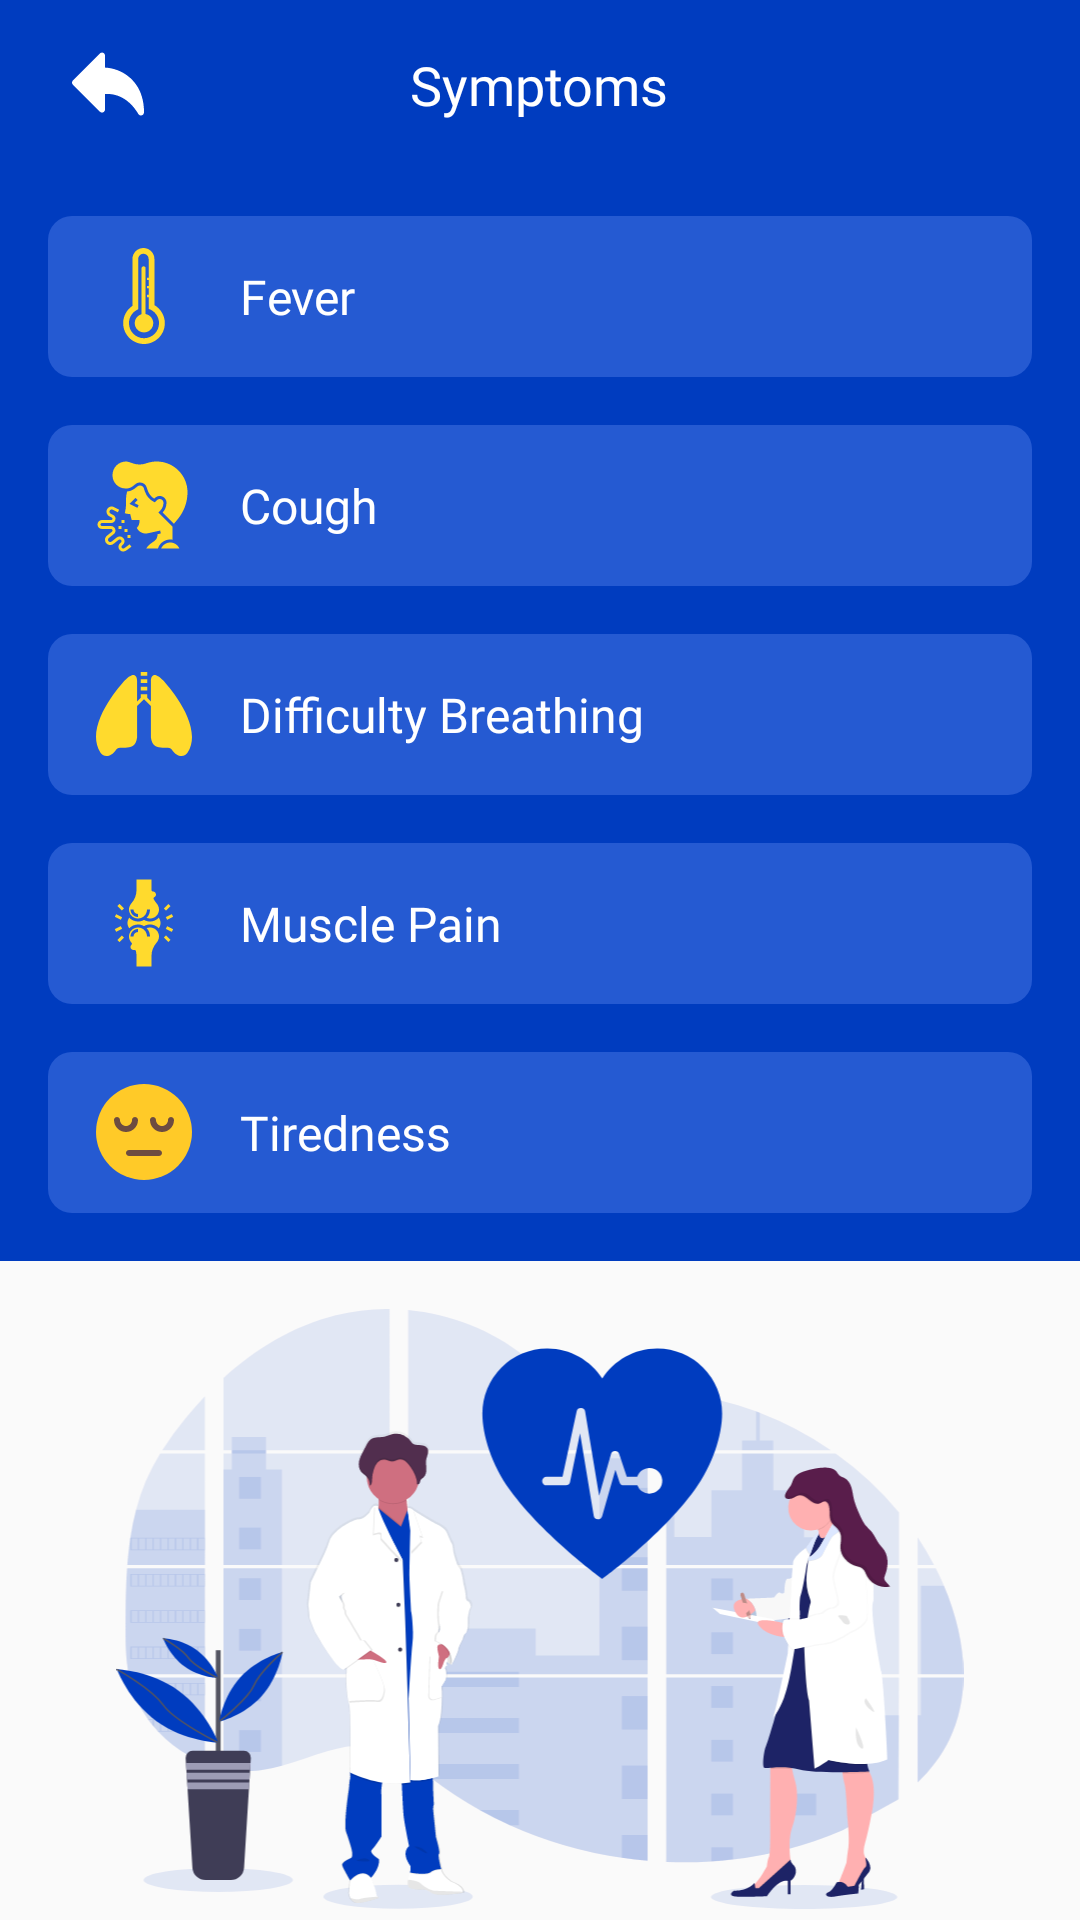

Icons on this 1080w x 1920h Android screen, each with the point to tap as point (x, y):
backward: point (108, 84)
joint: point (144, 923)
trachea: point (144, 714)
